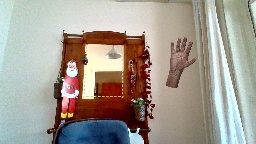Mano_aperta: (168, 35, 197, 70)
